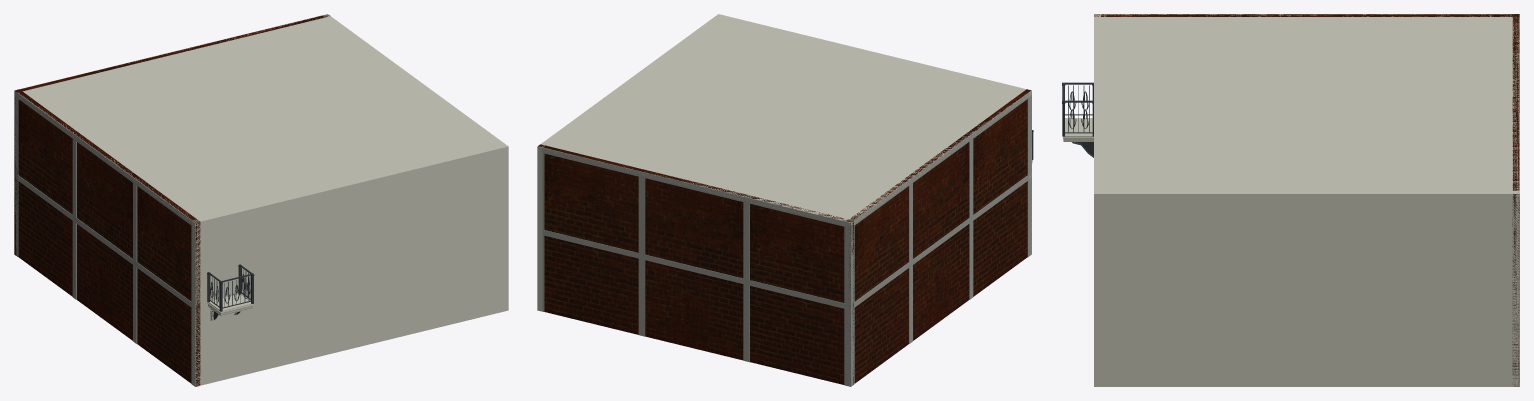
Rendered from building.glb.
The picture shows the model from 3 angles, left to right: view 1: azimuth 30°, elevation 25°; view 2: azimuth 150°, elevation 25°; view 3: azimuth 270°, elevation 25°; orthographic projection. The views are drawn at different scales.
Parts seen in each view (by area): view 1: roof/house:0/roof_slab#0001, house:0/edge0/z0/house:0/edge0/z0/wall_0_0, house:0/edge3/z0/house:0/edge3/z0/wall_0_0, house:0/edge2/z0/house:0/edge2/z0/wall_0_0, house:0/edge3/z0/house:0/edge3/z0/beam_0_0, house:0/edge3/z0/house:0/edge3/z0/beam_1_0, house:0/edge1/z0/house:0/edge1/z0/wall_0_0; view 2: roof/house:0/roof_slab#0001, house:0/edge2/z0/house:0/edge2/z0/wall_0_0, house:0/edge3/z0/house:0/edge3/z0/wall_0_0, house:0/edge1/z0/house:0/edge1/z0/wall_0_0, house:0/edge2/z0/house:0/edge2/z0/beam_0_0, house:0/edge2/z0/house:0/edge2/z0/beam_1_0, house:0/edge3/z0/house:0/edge3/z0/beam_0_0, house:0/edge0/z0/house:0/edge0/z0/wall_0_0, house:0/edge3/z0/house:0/edge3/z0/beam_1_0, house:0/edge2/z0/house:0/edge2/z0/column_2_0, house:0/edge2/z0/house:0/edge2/z0/column_1_1, house:0/edge2/z0/house:0/edge2/z0/column_2_1 (+3 smaller); view 3: house:0/edge1/z0/house:0/edge1/z0/wall_0_0, roof/house:0/roof_slab#0001, house:0/edge0/z0/house:0/edge0/z0/wall_0_0, house:0/edge2/z0/house:0/edge2/z0/wall_0_0, house:0/edge3/z0/house:0/edge3/z0/wall_0_0, balcony/sample/balcony_platform#0001.
Part boxes in pixels (x1=…): roof/house:0/roof_slab#0001: x1=16, y1=15, x2=507, y2=225; house:0/edge0/z0/house:0/edge0/z0/wall_0_0: x1=192, y1=144, x2=508, y2=386; house:0/edge3/z0/house:0/edge3/z0/wall_0_0: x1=17, y1=89, x2=200, y2=386; house:0/edge2/z0/house:0/edge2/z0/wall_0_0: x1=14, y1=14, x2=329, y2=255; house:0/edge3/z0/house:0/edge3/z0/beam_0_0: x1=14, y1=173, x2=195, y2=309; house:0/edge3/z0/house:0/edge3/z0/beam_1_0: x1=14, y1=91, x2=195, y2=228; house:0/edge1/z0/house:0/edge1/z0/wall_0_0: x1=323, y1=14, x2=508, y2=311; roof/house:0/roof_slab#0001: x1=540, y1=14, x2=1031, y2=225; house:0/edge2/z0/house:0/edge2/z0/wall_0_0: x1=538, y1=144, x2=853, y2=384; house:0/edge3/z0/house:0/edge3/z0/wall_0_0: x1=846, y1=89, x2=1030, y2=383; house:0/edge1/z0/house:0/edge1/z0/wall_0_0: x1=537, y1=14, x2=721, y2=311; house:0/edge2/z0/house:0/edge2/z0/beam_0_0: x1=542, y1=230, x2=851, y2=310; house:0/edge2/z0/house:0/edge2/z0/beam_1_0: x1=538, y1=146, x2=851, y2=228; house:0/edge3/z0/house:0/edge3/z0/beam_0_0: x1=850, y1=172, x2=1031, y2=309; house:0/edge0/z0/house:0/edge0/z0/wall_0_0: x1=716, y1=14, x2=1031, y2=253; house:0/edge3/z0/house:0/edge3/z0/beam_1_0: x1=850, y1=90, x2=1031, y2=227; house:0/edge2/z0/house:0/edge2/z0/column_2_0: x1=638, y1=177, x2=645, y2=254; house:0/edge2/z0/house:0/edge2/z0/column_1_1: x1=844, y1=227, x2=851, y2=304; house:0/edge2/z0/house:0/edge2/z0/column_2_1: x1=638, y1=259, x2=645, y2=336; house:0/edge1/z0/house:0/edge1/z0/wall_0_0: x1=1094, y1=191, x2=1519, y2=386; roof/house:0/roof_slab#0001: x1=1094, y1=14, x2=1519, y2=198; house:0/edge0/z0/house:0/edge0/z0/wall_0_0: x1=1094, y1=14, x2=1100, y2=386; house:0/edge2/z0/house:0/edge2/z0/wall_0_0: x1=1512, y1=14, x2=1519, y2=386; house:0/edge3/z0/house:0/edge3/z0/wall_0_0: x1=1094, y1=14, x2=1519, y2=16; balcony/sample/balcony_platform#0001: x1=1064, y1=118, x2=1093, y2=137.
Size of the model in its own units: 12 by 6 by 12.89.
4 materials, 1 textured.
